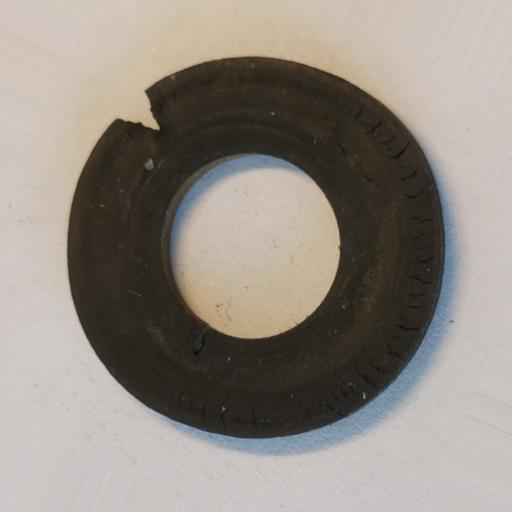defect: (115, 90, 163, 134)
